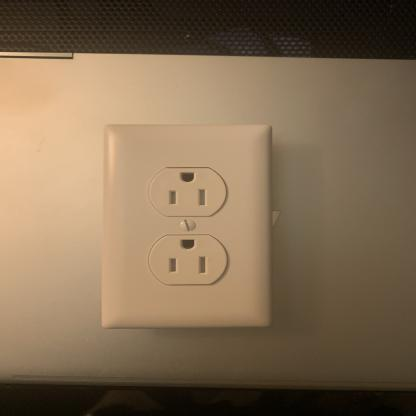OUTLET: (102, 122, 276, 333)
